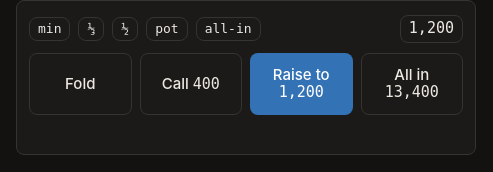
Test: the action bar › refuses an entry under the server's minimum, sends nothing, and says which bound
This screenshot has width=493, height=172.
Step 1. Replace the text in the field named "the total" with "500" → coordinates (431, 29), box [400, 15, 463, 43]
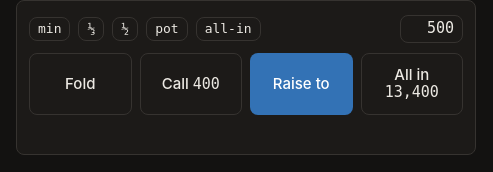
Step 2. Click the button "Raise to" → coordinates (301, 84), box [250, 53, 352, 114]
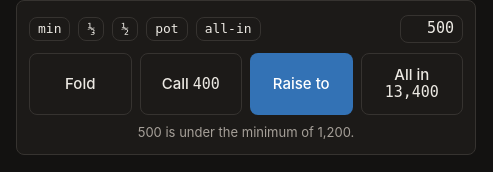
Expected: the button "Fold" is enabled, [29, 53, 132, 114]
Expected: the text "500 is under the minimum of 1,200." is shown, [138, 124, 354, 140]
